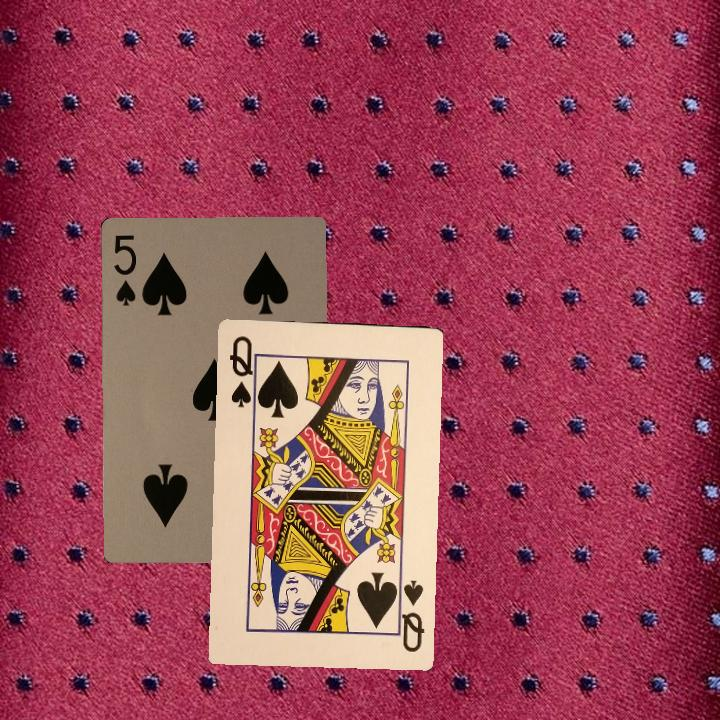5s: (110, 230, 140, 308)
Qs: (390, 576, 427, 654), (226, 332, 260, 412)
